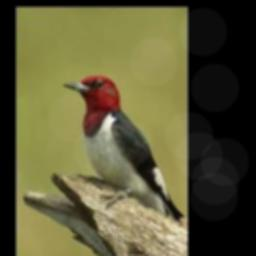Woodpecker: (62, 74, 184, 221)
